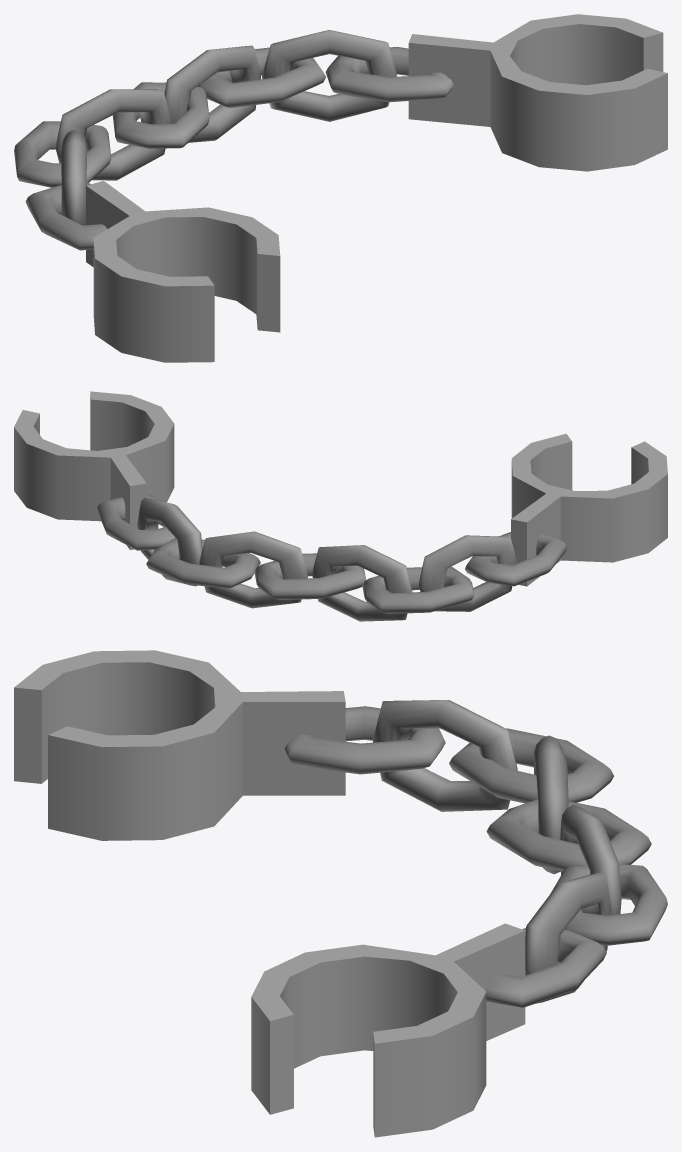
Rendered from manacles.fbx.
3 renders of one model, top to bottom at view 1: azimuth 30°, elevation 25°; view 2: azimuth 150°, elevation 25°; view 3: azimuth 270°, elevation 25°, orthographic. The views are drawn at different scales.
Parts seen in each view (by area): view 1: pTorus10; view 2: pTorus10; view 3: pTorus10.
Part boxes in pixels (box(x1,y1,x2,y2)): pTorus10: box(14, 14, 667, 362); pTorus10: box(14, 391, 667, 621); pTorus10: box(14, 650, 667, 1137).
Size of the model in its own units: 1.52 by 0.1984 by 1.06.
2 materials, 1 textured.
